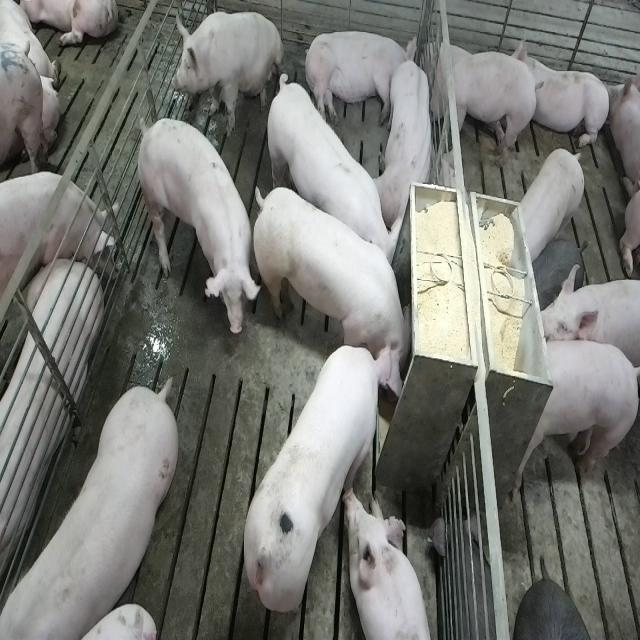Feeding: (241, 339, 402, 620), (257, 177, 420, 381)
Lateral_lying: (0, 253, 101, 608), (303, 28, 417, 127)
Sitting: (171, 8, 284, 136)
Standing: (5, 374, 184, 636), (262, 70, 398, 285), (134, 113, 255, 334), (516, 338, 638, 492), (420, 39, 541, 175), (0, 169, 117, 302), (532, 267, 637, 378), (514, 149, 588, 262)
Sternal_lying: (346, 489, 433, 640), (520, 32, 611, 153), (376, 55, 437, 230)
